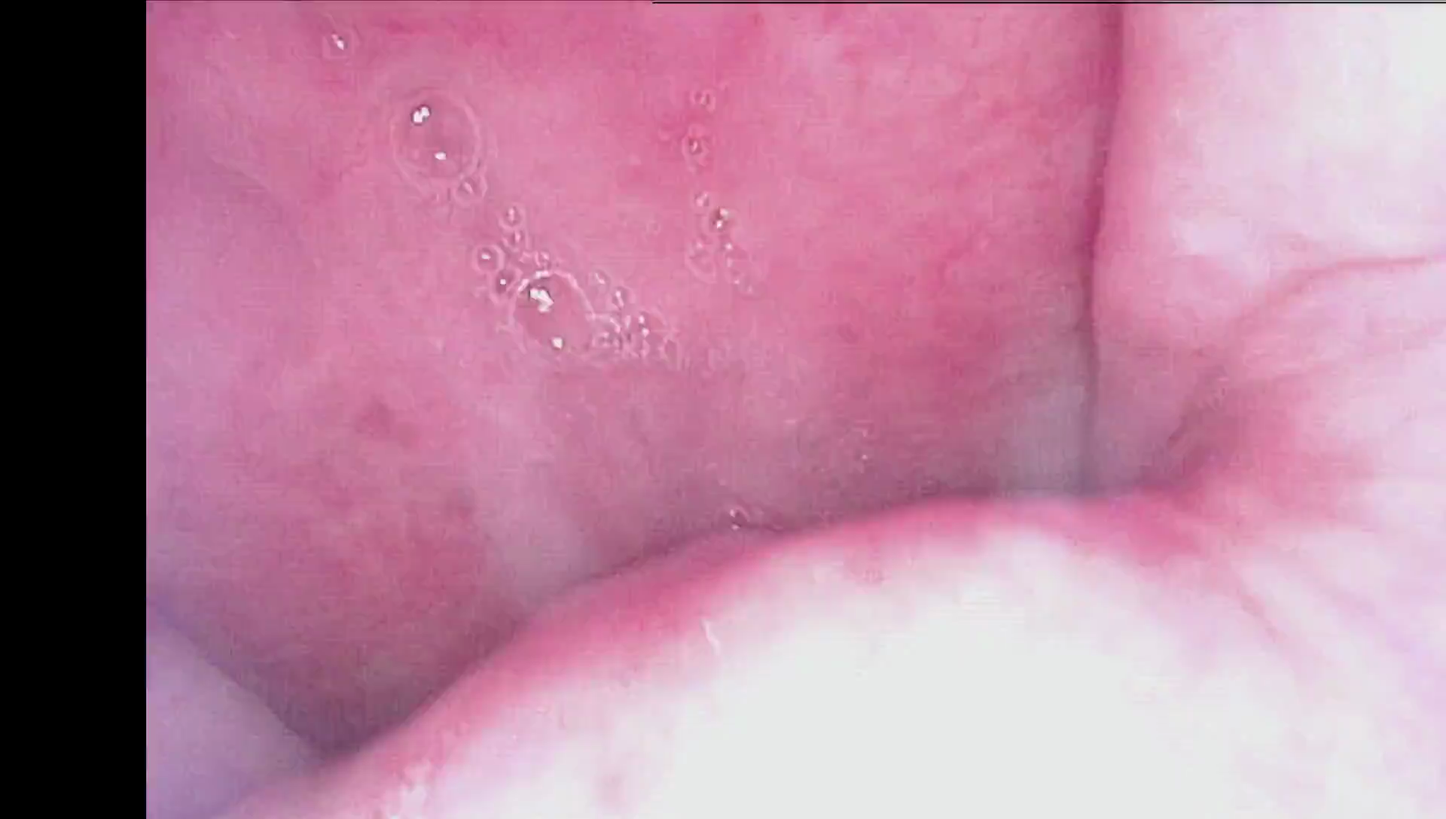close_wall: (374, 507, 1446, 819), (1132, 7, 1446, 819)
